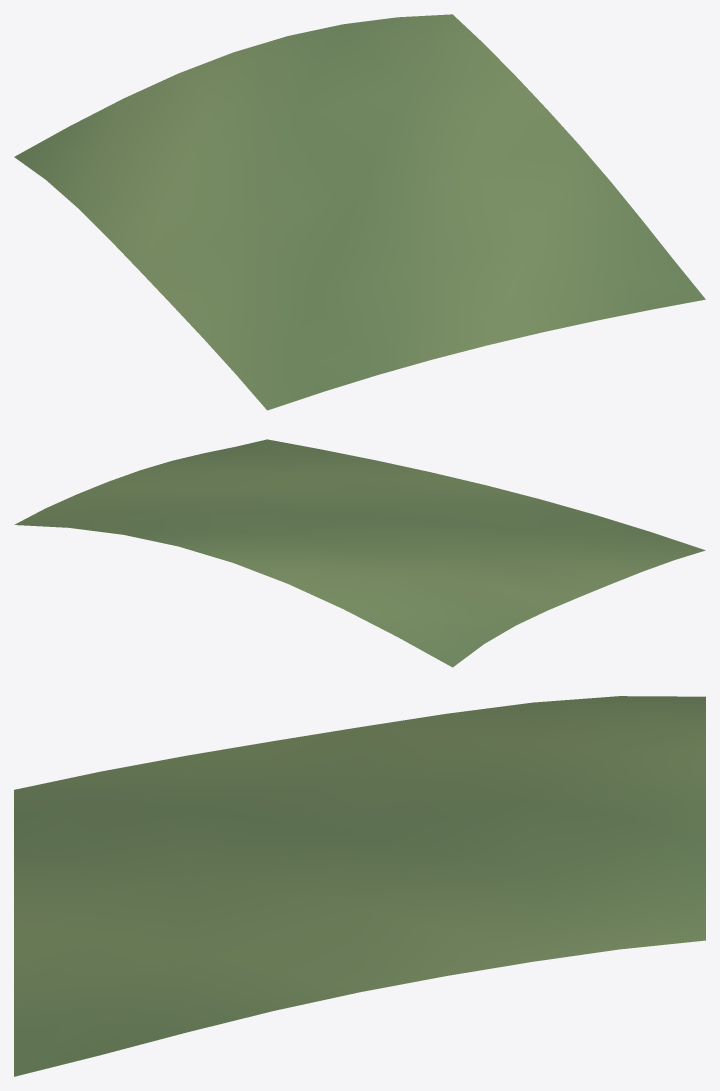
The model's file is Terrain-1-6-2.glb.
The picture shows the model from 3 angles, top to bottom: view 1: azimuth 30°, elevation 25°; view 2: azimuth 150°, elevation 25°; view 3: azimuth 270°, elevation 25°; orthographic projection. The views are drawn at different scales.
Visible parts, largest first — view 1: Terrain-1-6-2; view 2: Terrain-1-6-2; view 3: Terrain-1-6-2.
Boxes of the visible parts, <box> form: Terrain-1-6-2: <box>14,14,705,410</box>; Terrain-1-6-2: <box>14,439,705,667</box>; Terrain-1-6-2: <box>14,696,705,1076</box>.
Bounding box in the file's own units: 6 × 1.6 × 6.
